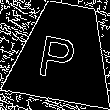P_N: (41, 24, 85, 80)
